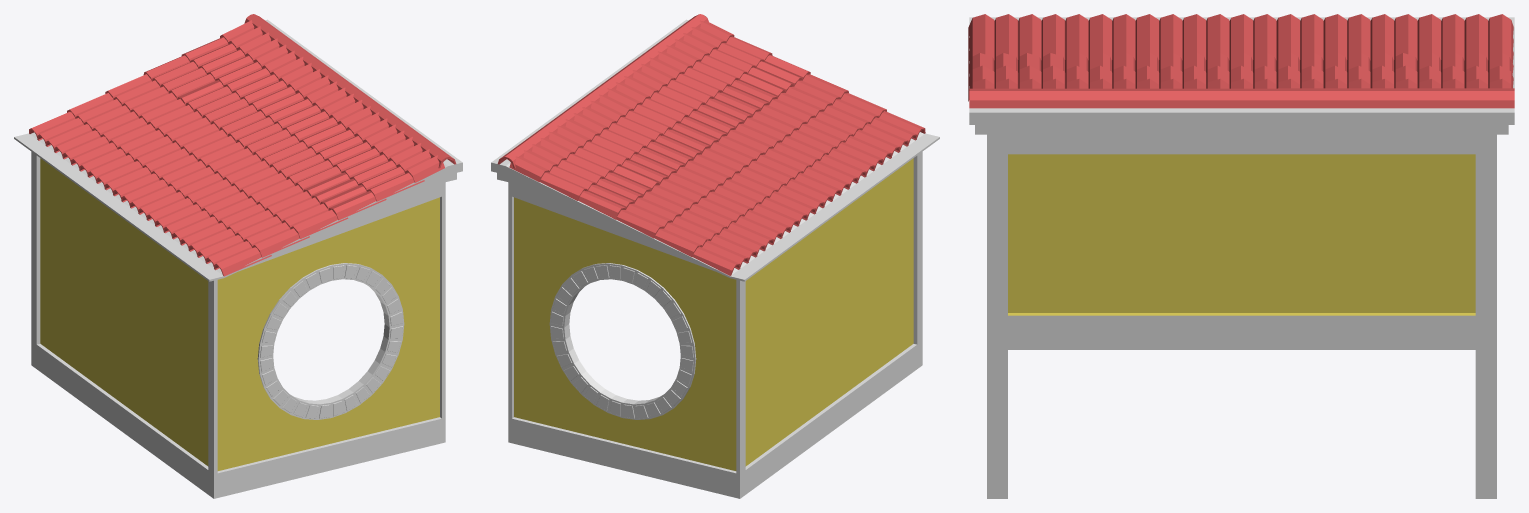
The model's file is busstop.glb.
The picture shows the model from 3 angles, left to right: view 1: azimuth 30°, elevation 25°; view 2: azimuth 150°, elevation 25°; view 3: azimuth 270°, elevation 25°; orthographic projection. The views are drawn at different scales.
Parts seen in each view (by area): view 1: busStop; view 2: busStop; view 3: busStop.
Boxes of the visible parts, box(x1,y1,x2,y2) form: busStop: box(14, 14, 462, 498); busStop: box(491, 14, 939, 498); busStop: box(968, 14, 1514, 498).
Bounding box in the file's own units: 3.48 × 3.82 × 4.65.
